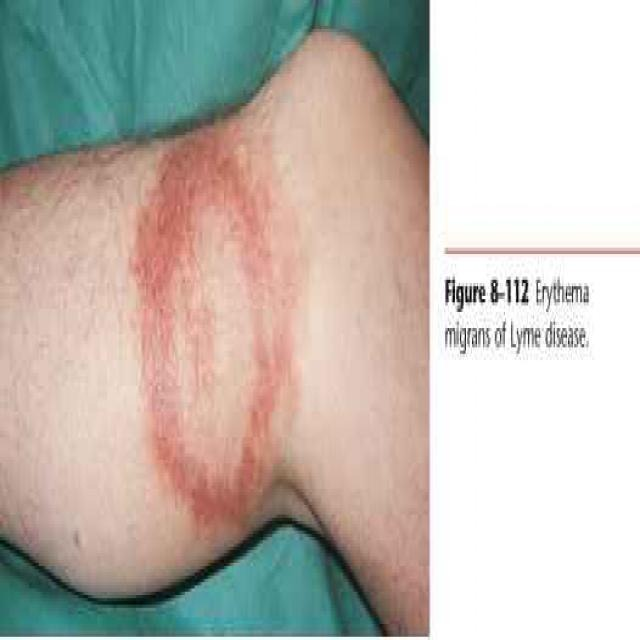Ringworm: (125, 127, 300, 537)
